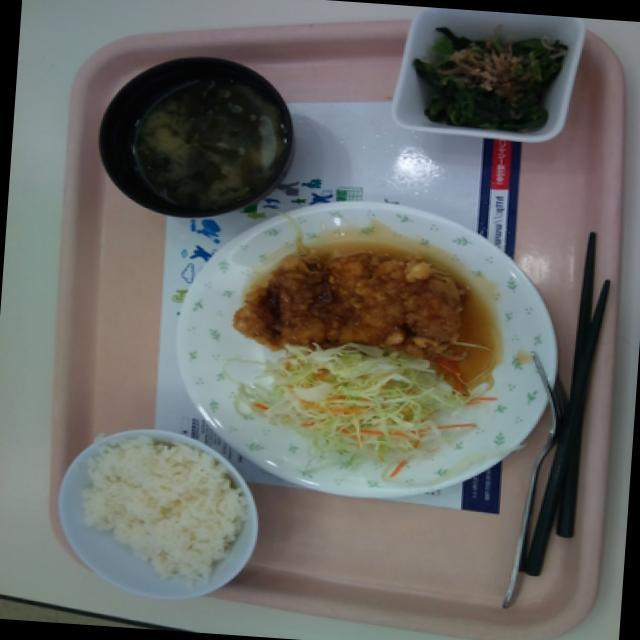Rice: (77, 435, 240, 587)
